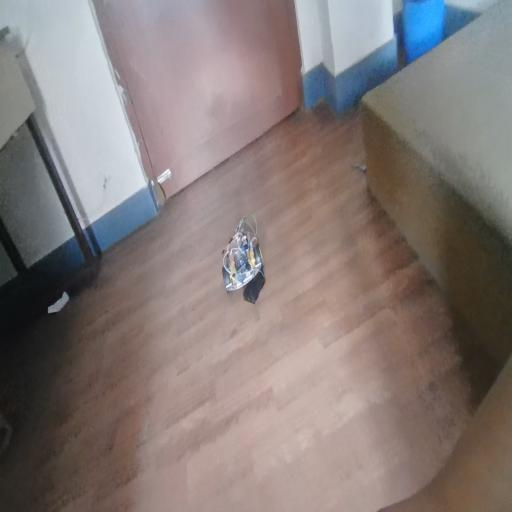car: (215, 213, 284, 314)
